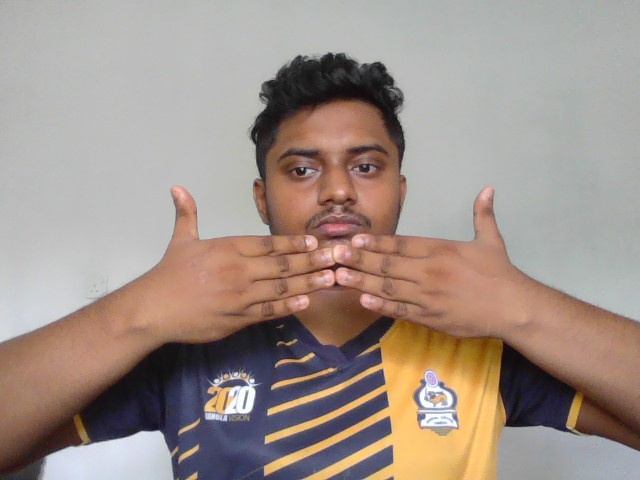Thank You: (150, 182, 520, 341)
